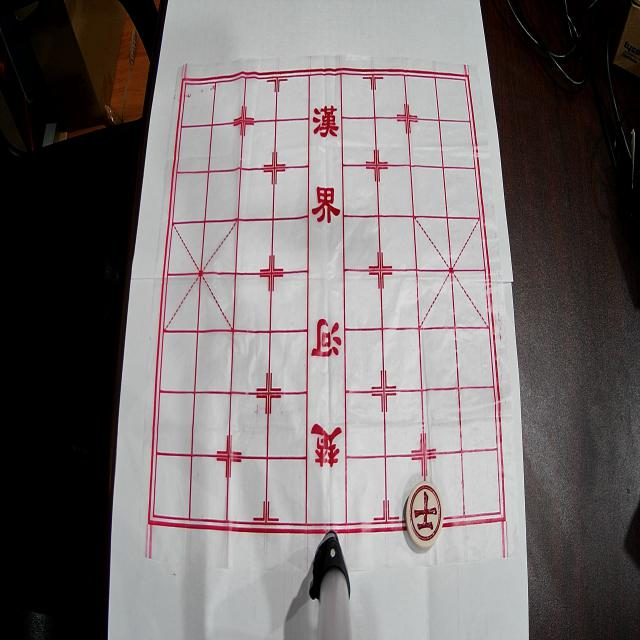red-guard: (406, 481, 444, 549)
